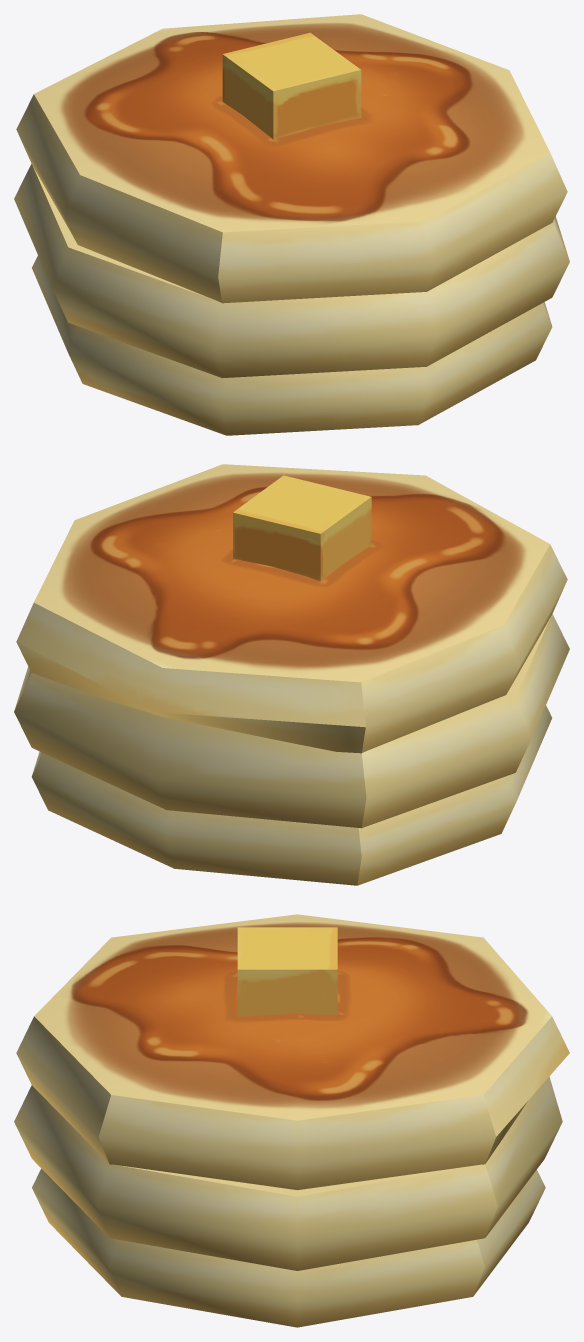
File: pan cake.FBX
3 views of the same model, one above another, from view 1: azimuth 30°, elevation 25°; view 2: azimuth 150°, elevation 25°; view 3: azimuth 270°, elevation 25° (orthographic).
Parts seen in each view (by area): view 1: pan cake; view 2: pan cake; view 3: pan cake.
Part boxes in pixels (x1,y1,x2,y2): pan cake: (14, 14, 569, 435); pan cake: (14, 464, 569, 885); pan cake: (14, 914, 569, 1327).
Bounding box in the file's own units: 5.7 × 3.07 × 5.7.
